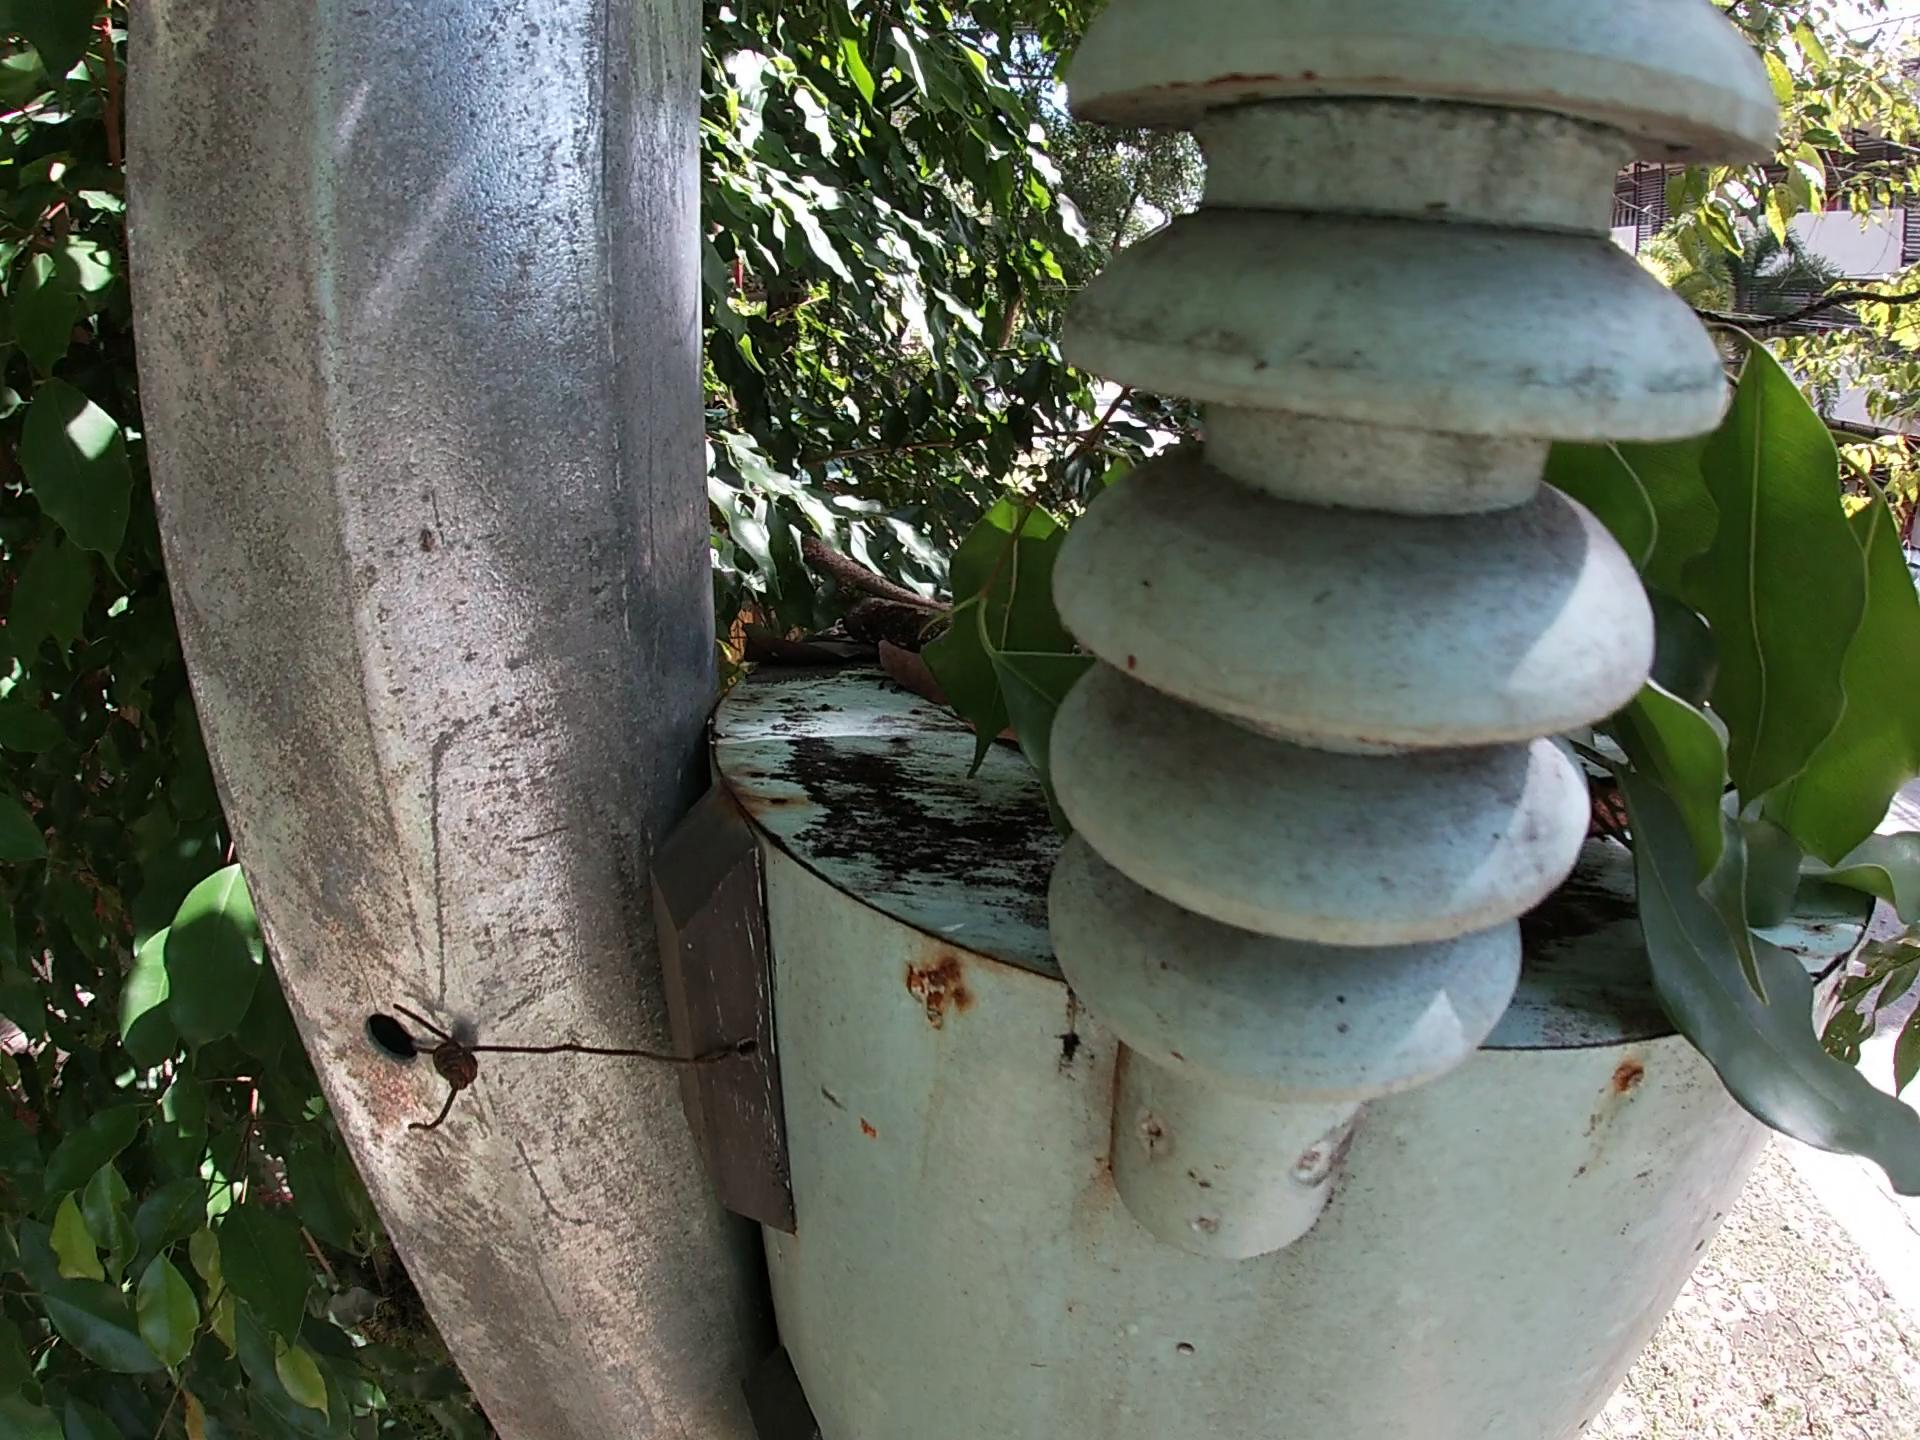branch with leaves: (1534, 298, 1914, 1222), (912, 372, 1172, 805)
leaf: (872, 640, 1030, 749), (747, 634, 859, 666)
tree branch: (773, 529, 934, 597), (847, 591, 969, 641)
